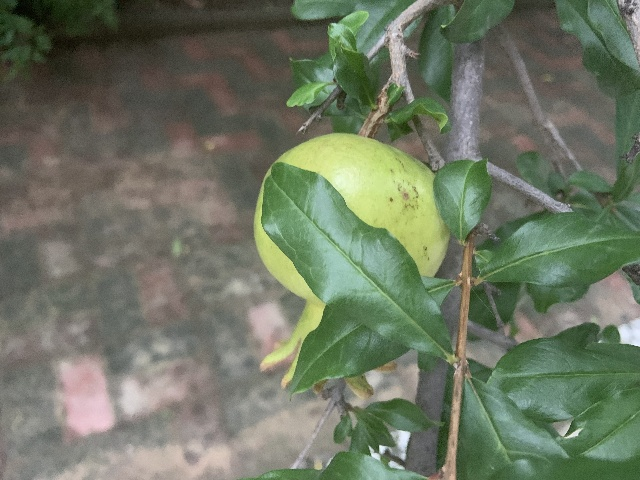mid-growth: (253, 131, 450, 400)
